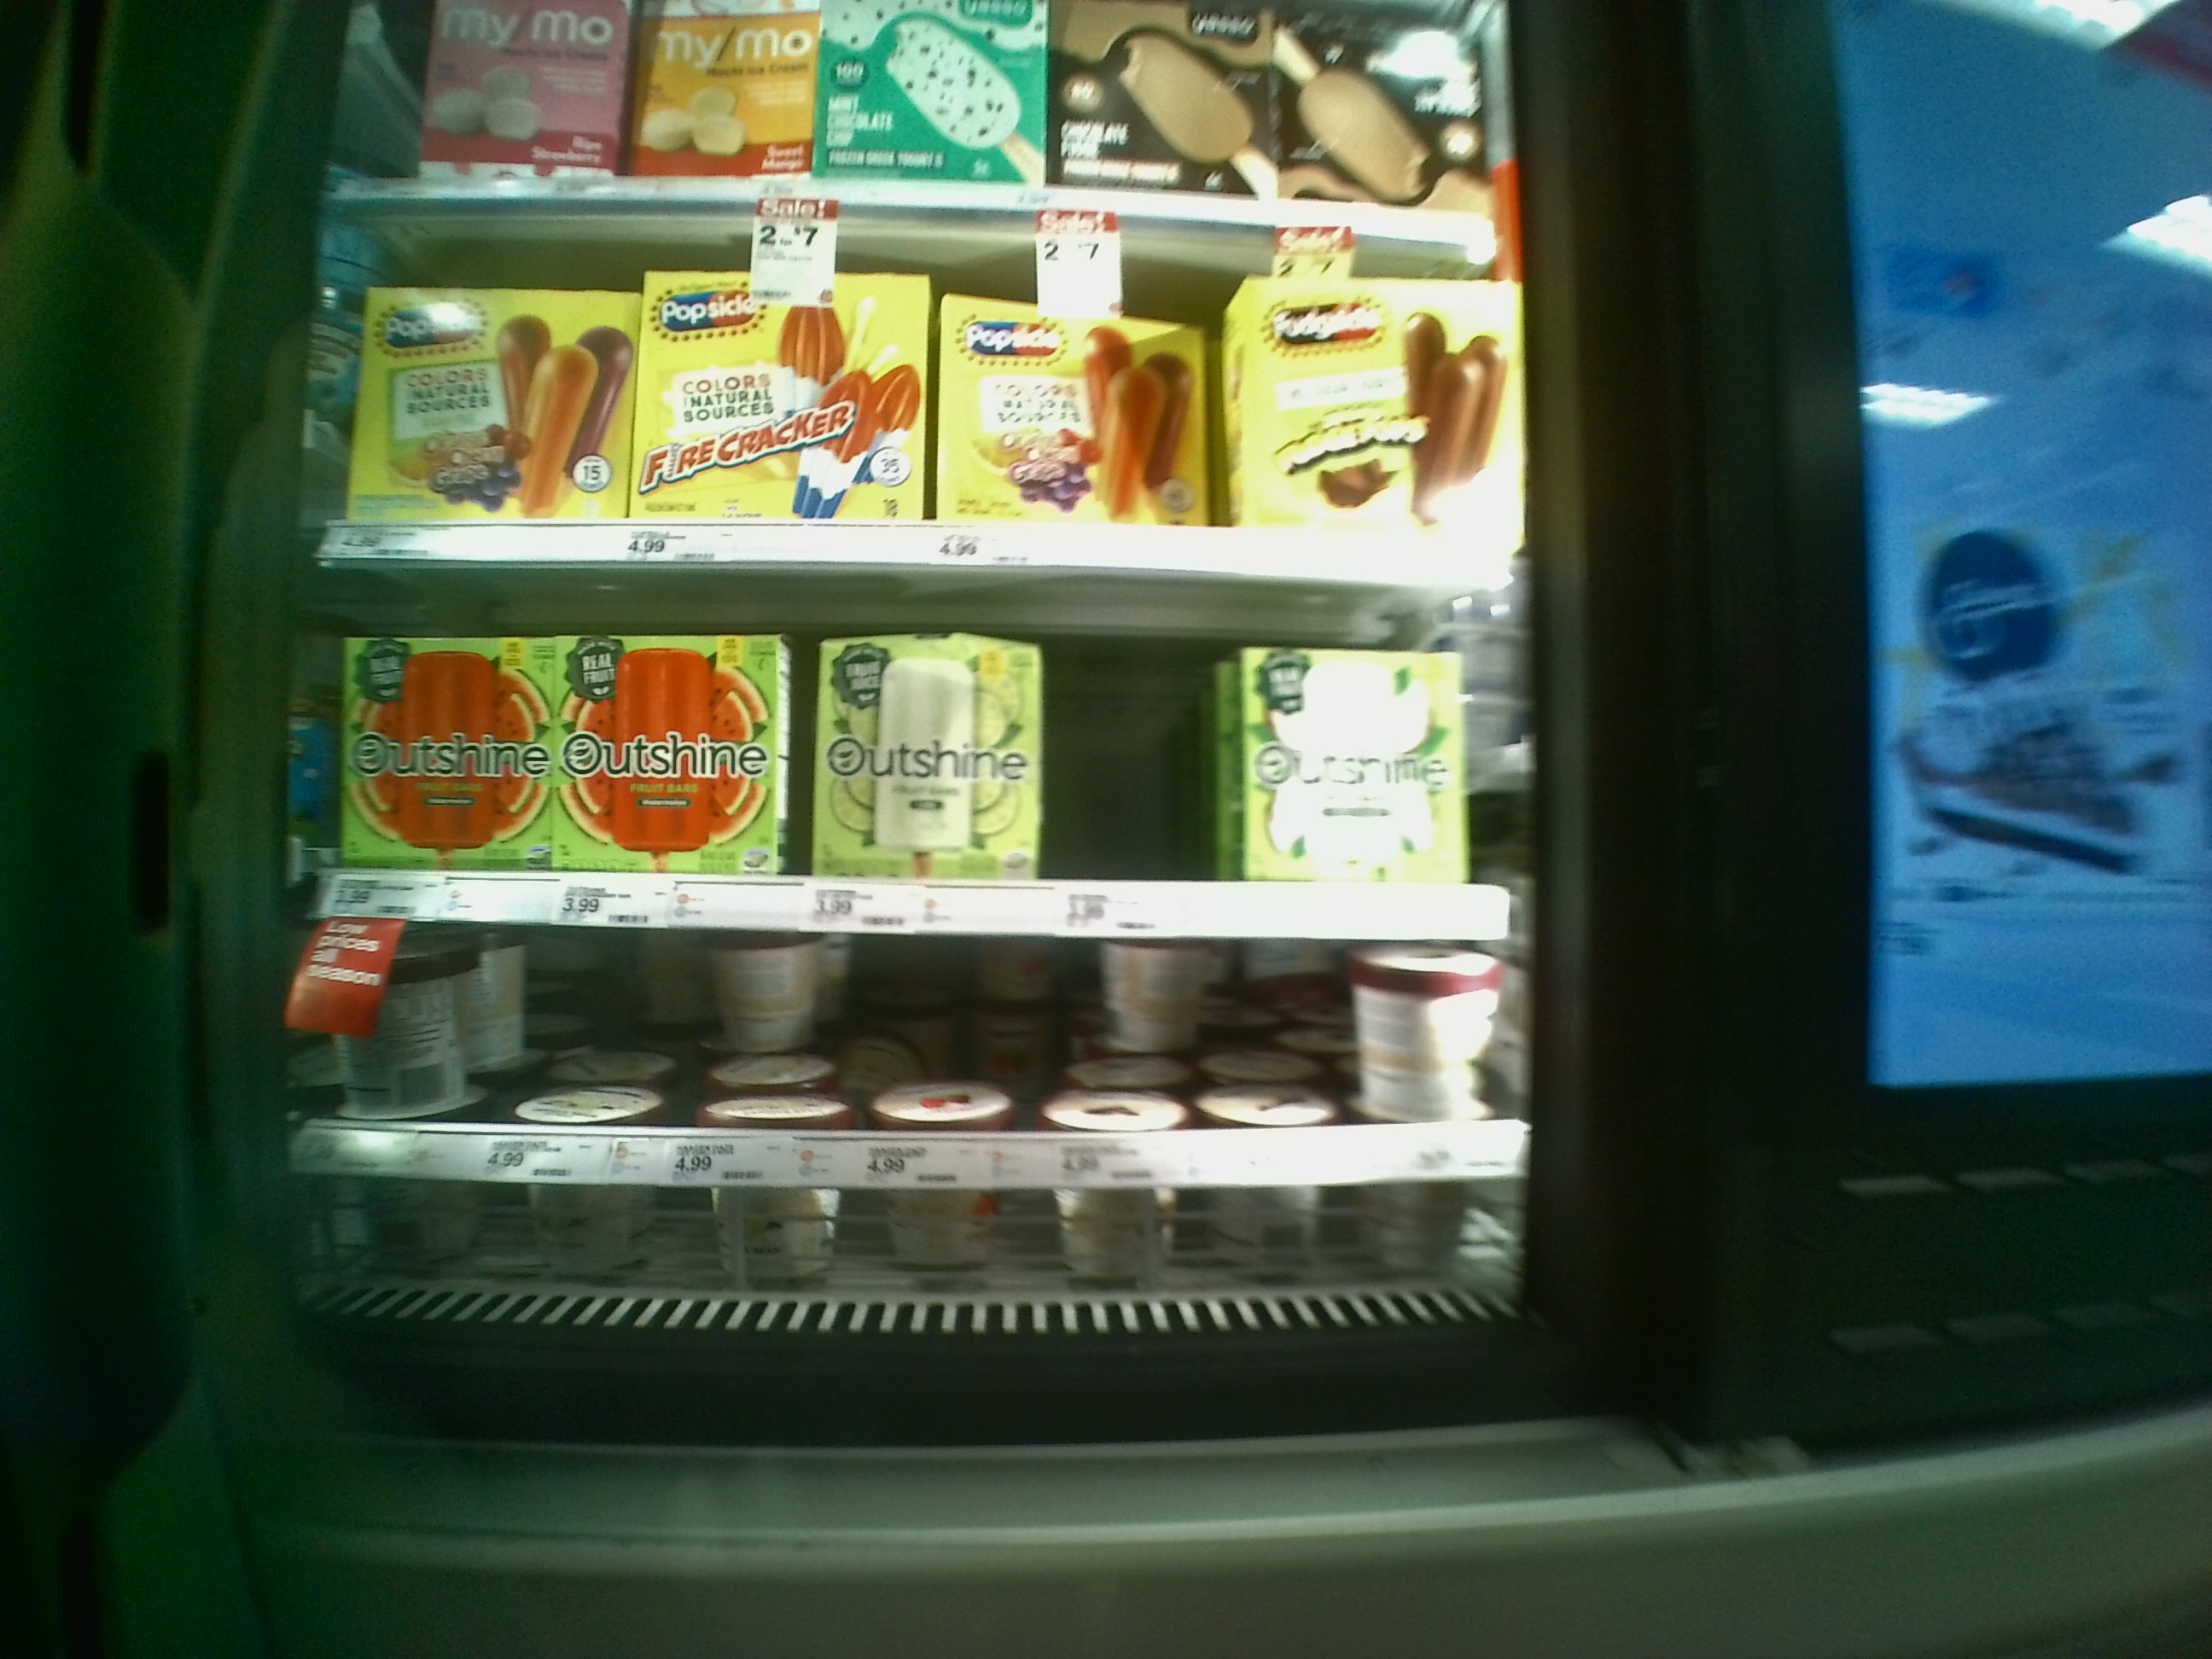ice-cream-shelf: (314, 202, 1533, 575), (307, 568, 1526, 939), (296, 927, 1526, 1180)
